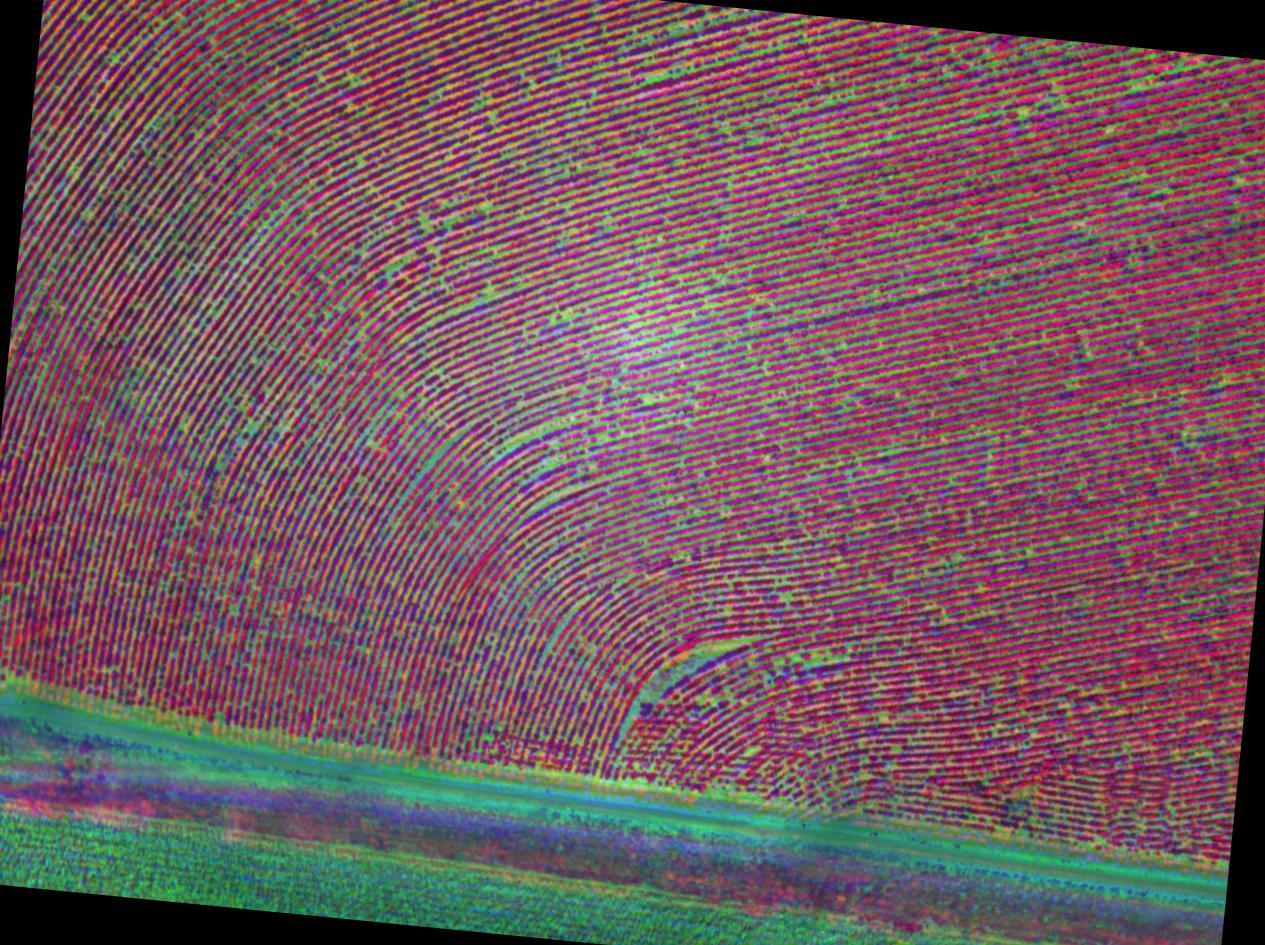dc: (571, 18, 721, 110), (466, 390, 595, 487), (626, 630, 730, 743), (118, 178, 221, 264), (151, 363, 258, 445)
